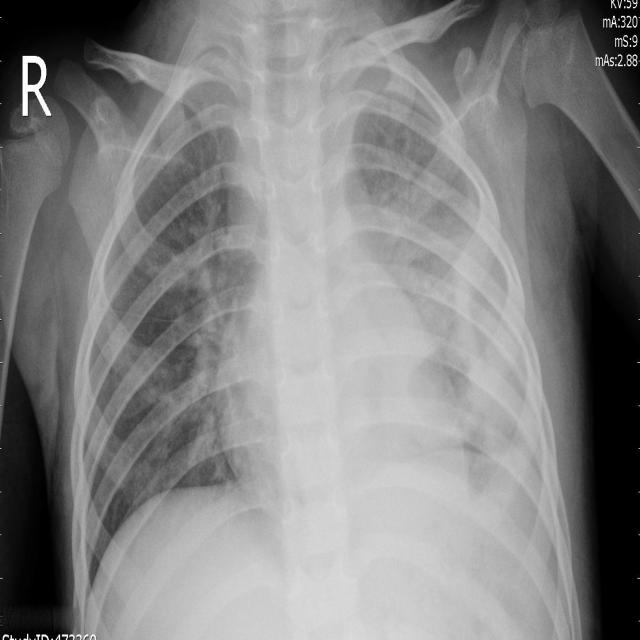high-pneumonia: (374, 147, 534, 469)
low-pneumonia: (156, 204, 261, 357), (147, 356, 237, 476)
